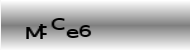6: (79, 24, 91, 37)
C: (50, 17, 65, 30)
M: (25, 25, 43, 40)
e: (66, 28, 79, 38)
f: (39, 24, 47, 40)
